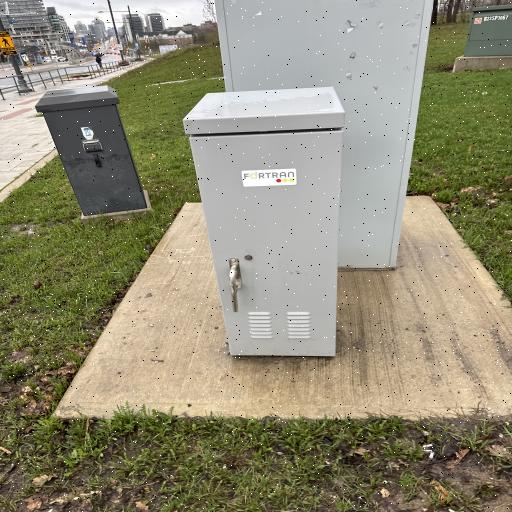Electrical Box: (178, 2, 438, 360), (34, 84, 152, 218)
